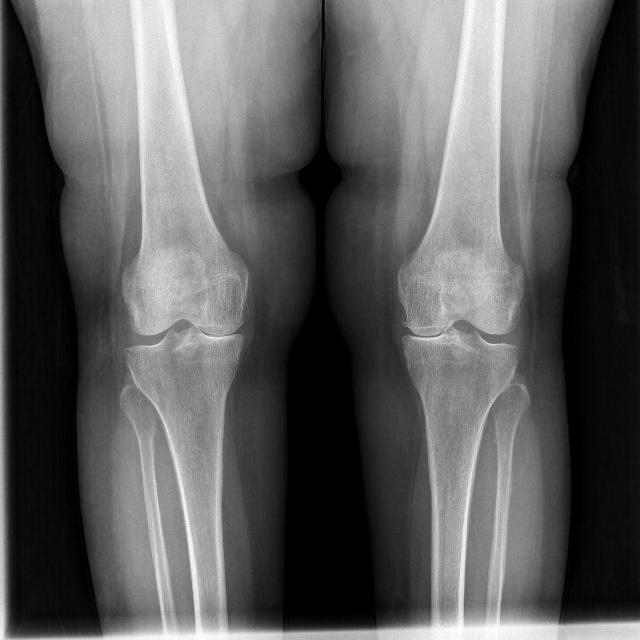Knee: (117, 268, 249, 398), (391, 270, 525, 385), (113, 401, 121, 406)
